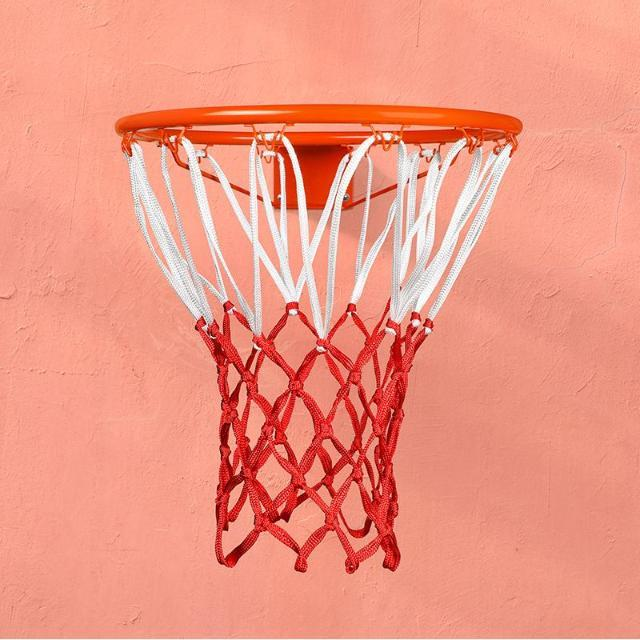rim: (114, 102, 522, 574)
